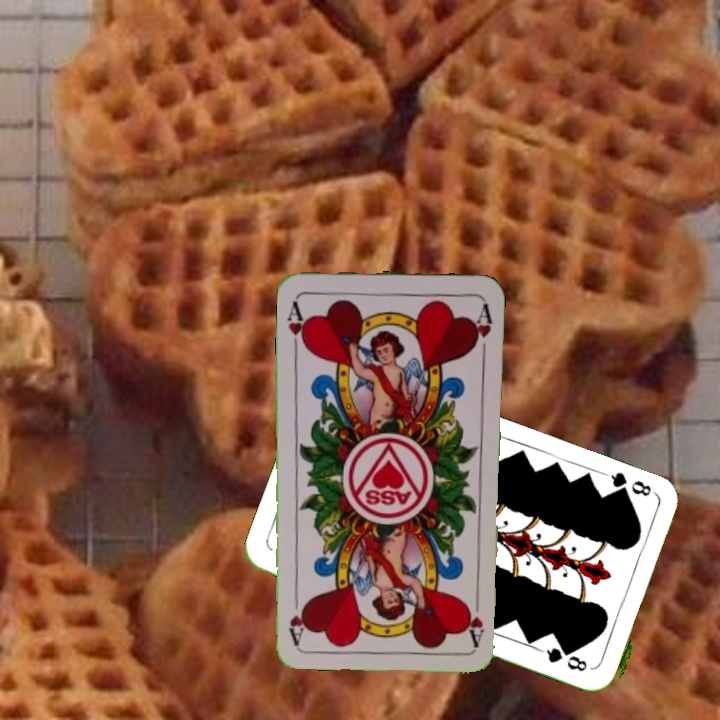G8: (606, 467, 661, 501)
HA: (283, 294, 310, 353), (460, 589, 487, 648)
